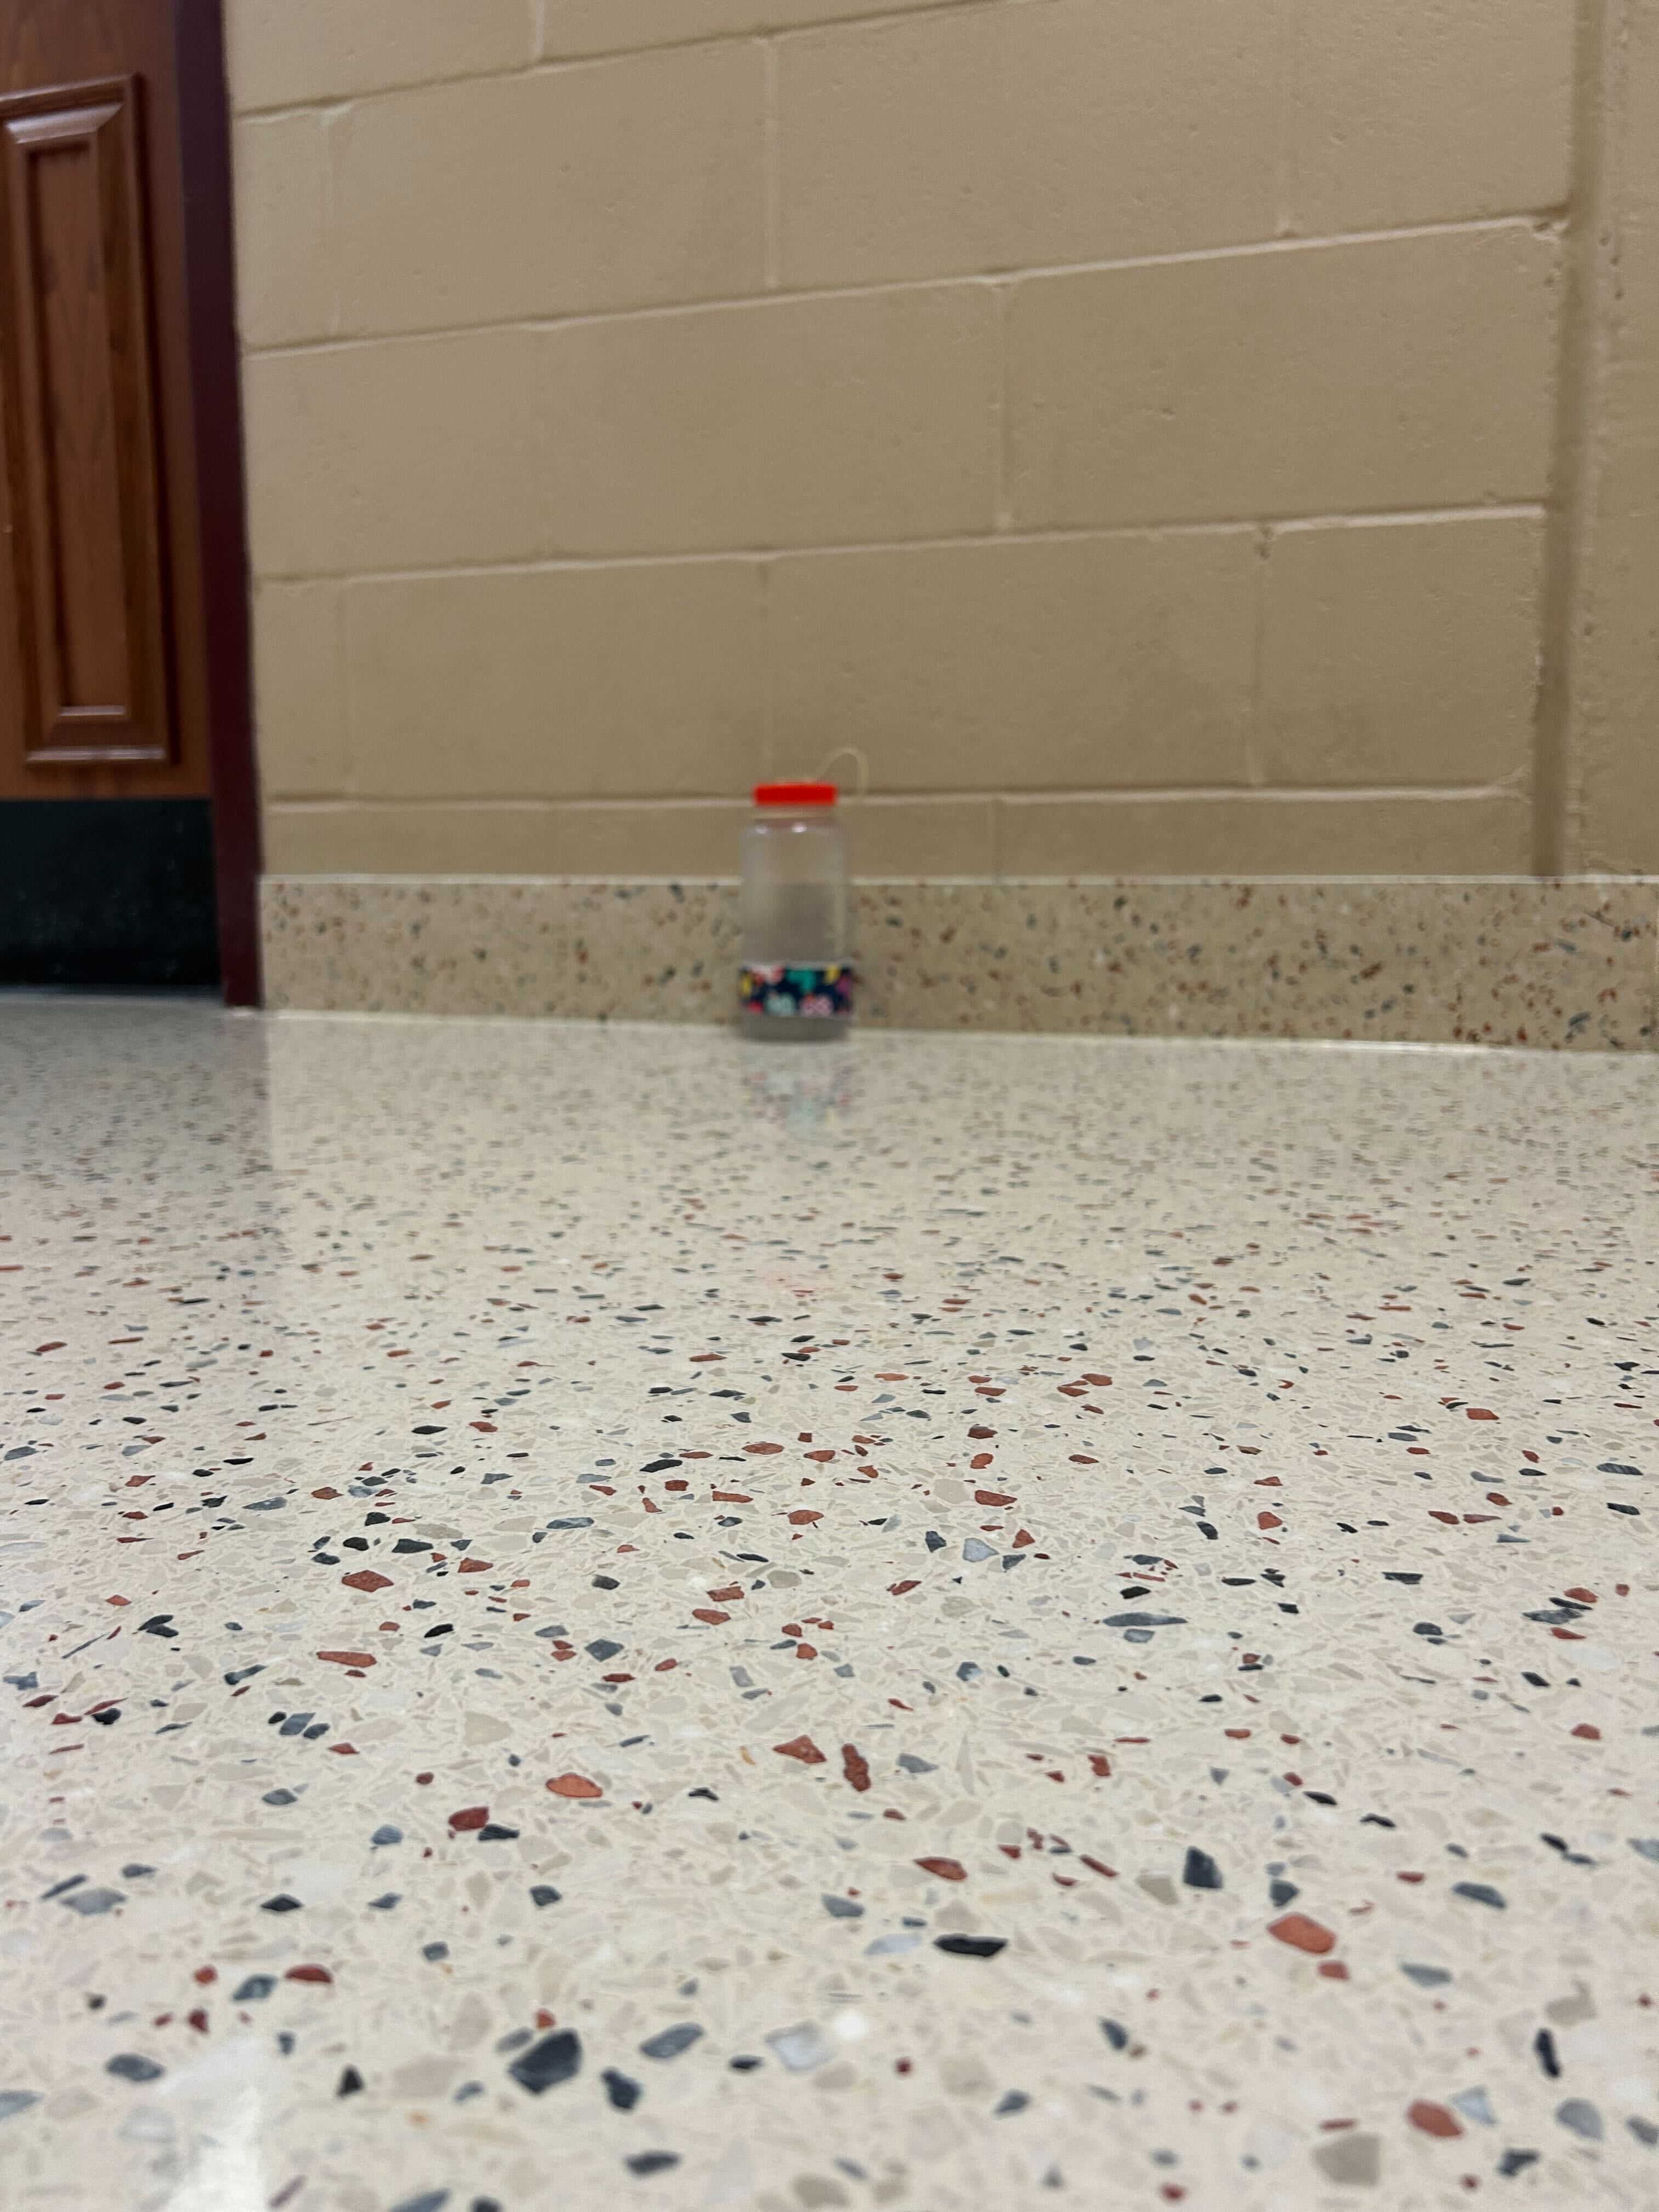bottle: (735, 732, 866, 1054)
